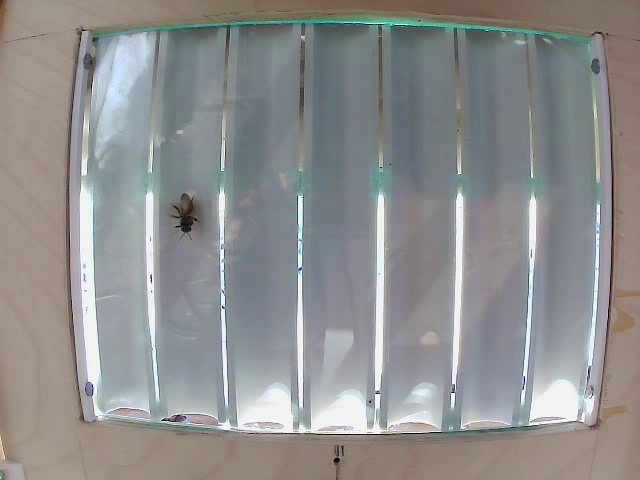bee: (172, 194, 216, 244)
